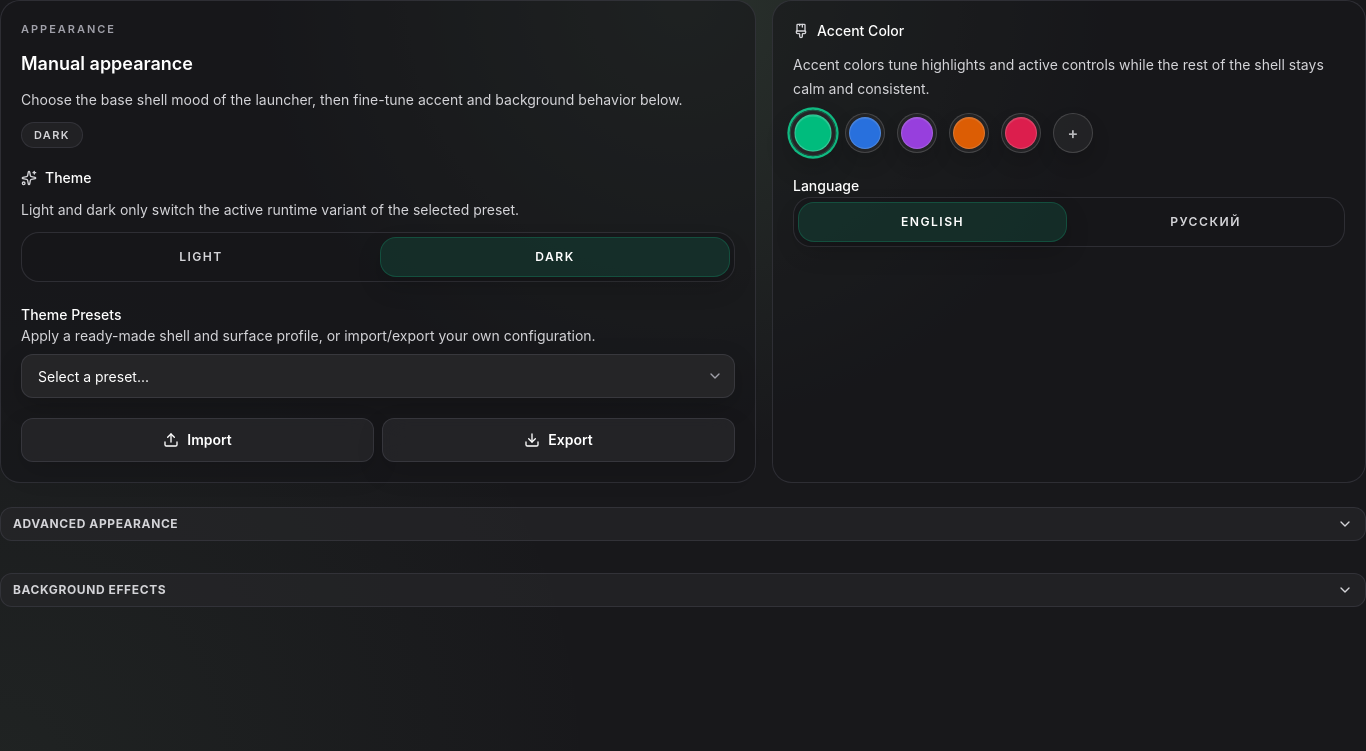
AppearanceTab brand contract › keeps appearance guidance focused on presets and accent behavior without a dedicated brand card
Expected: the dropdown named "Theme Presets" is shown, [21,354,735,398]
Expected: the text "Choose the base shell mood of the launcher, then fine-tune accent and background behavior below" is shown, [21,90,683,108]
What coordinates should you click on to do the following:
click the button "Background Effects"
I would click on:
 (90, 590)
Its box is [0,573,1365,607].
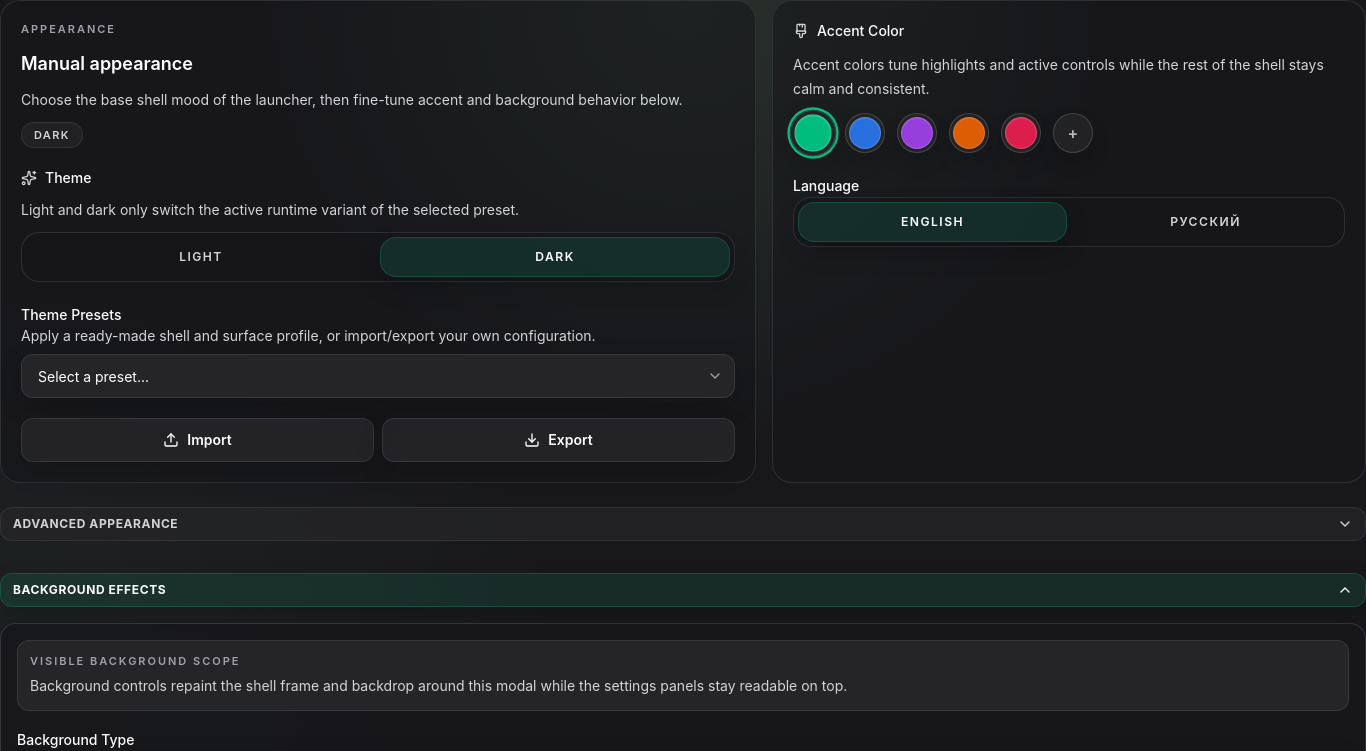
Now the text "Background controls repaint the shell frame and backdrop around this modal" is shown, box [30,677,847,694]
